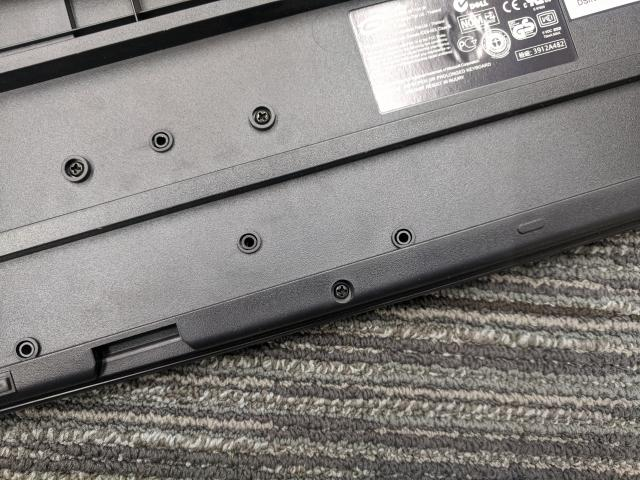CRS: (253, 108, 273, 126), (68, 161, 86, 178), (334, 284, 350, 300)
